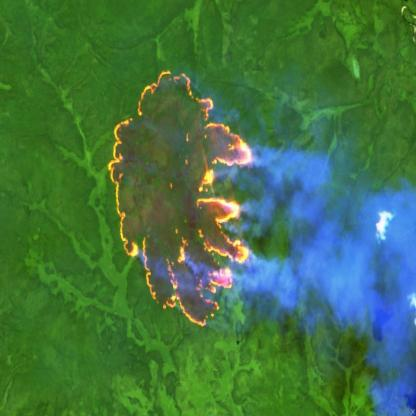fire: (105, 68, 255, 330)
